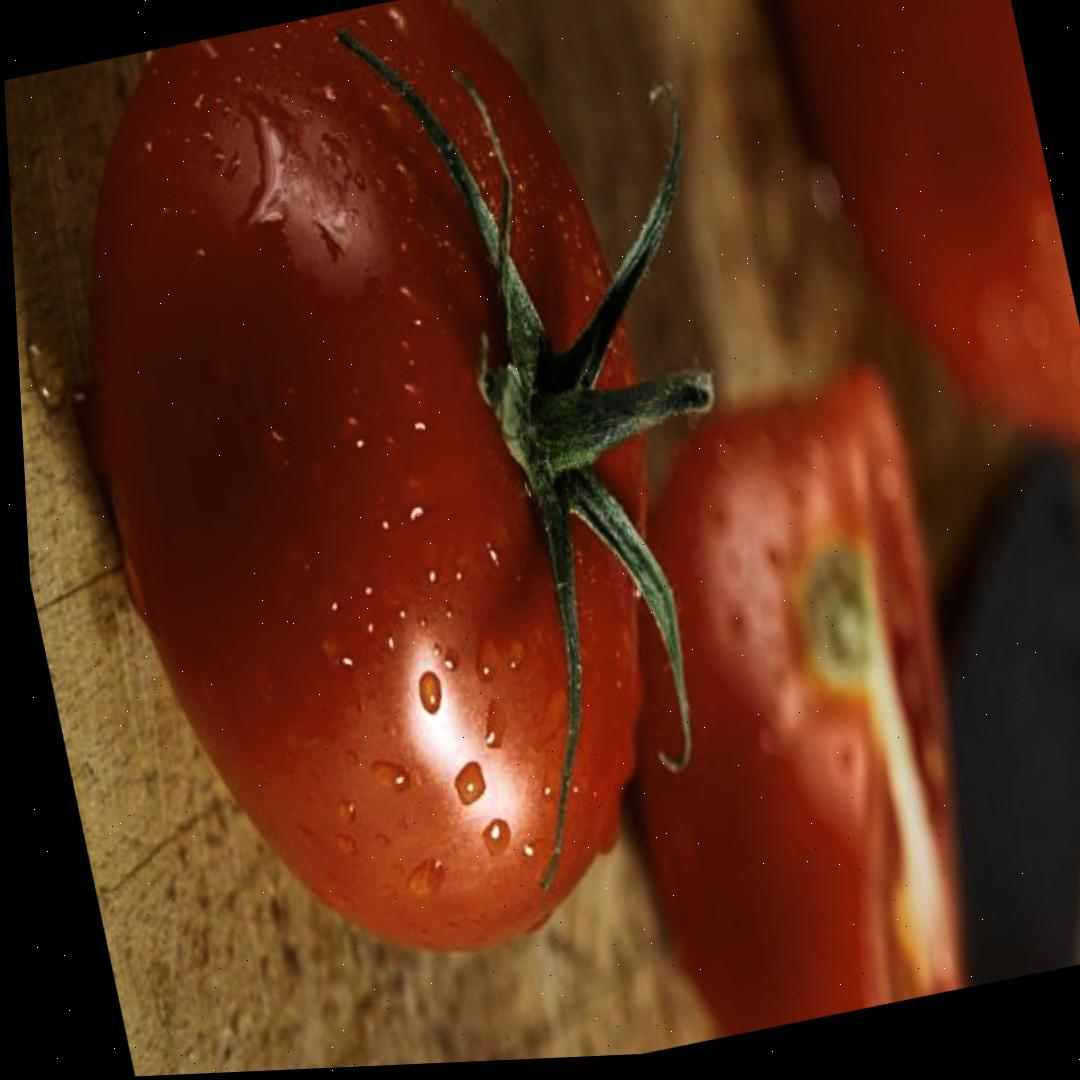matang: (16, 0, 755, 1008)
